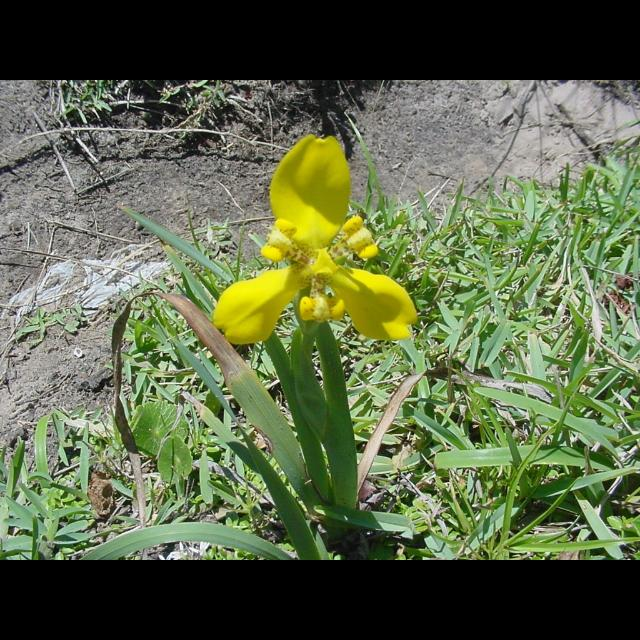Flower: (219, 129, 419, 349)
